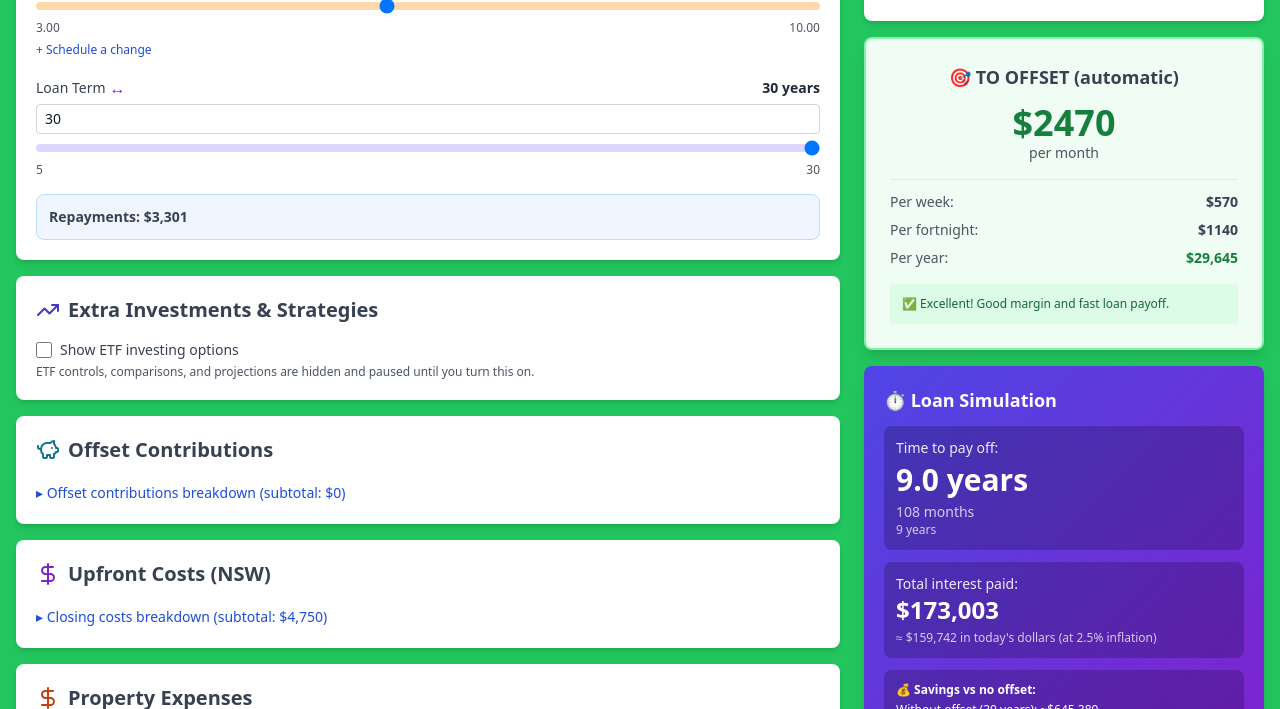
Test: Invest in ETFs / Strategy Comparison › hides ETF controls by default and restores the child settings when re-enabled
The width and height of the screenshot is (1280, 709).
(page scrolled)
Expected: the checkbox labelled "Invest in ETFs" is not shown
Click the checkbox labelled "Show ETF investing options".
click(44, 350)  # box [36,342,52,358]
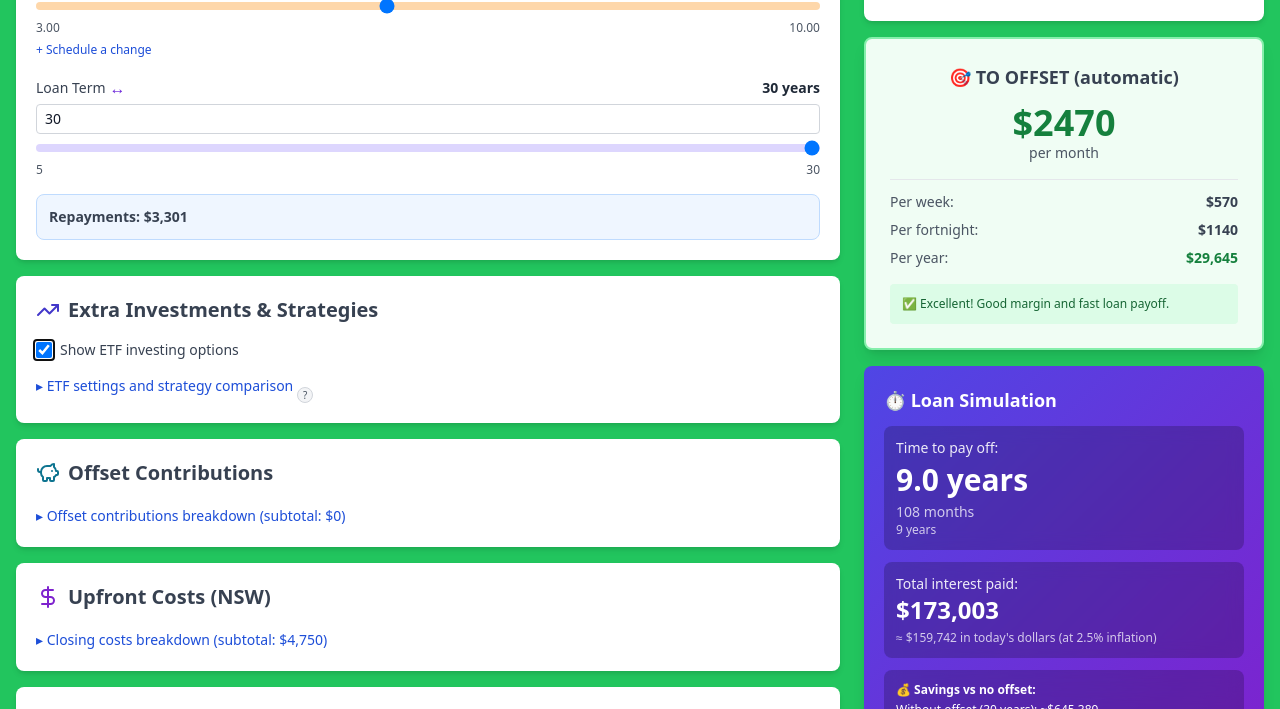
Click the button "▸ ETF settings and strategy comparison".
click(165, 386)  # box [36,376,293,396]
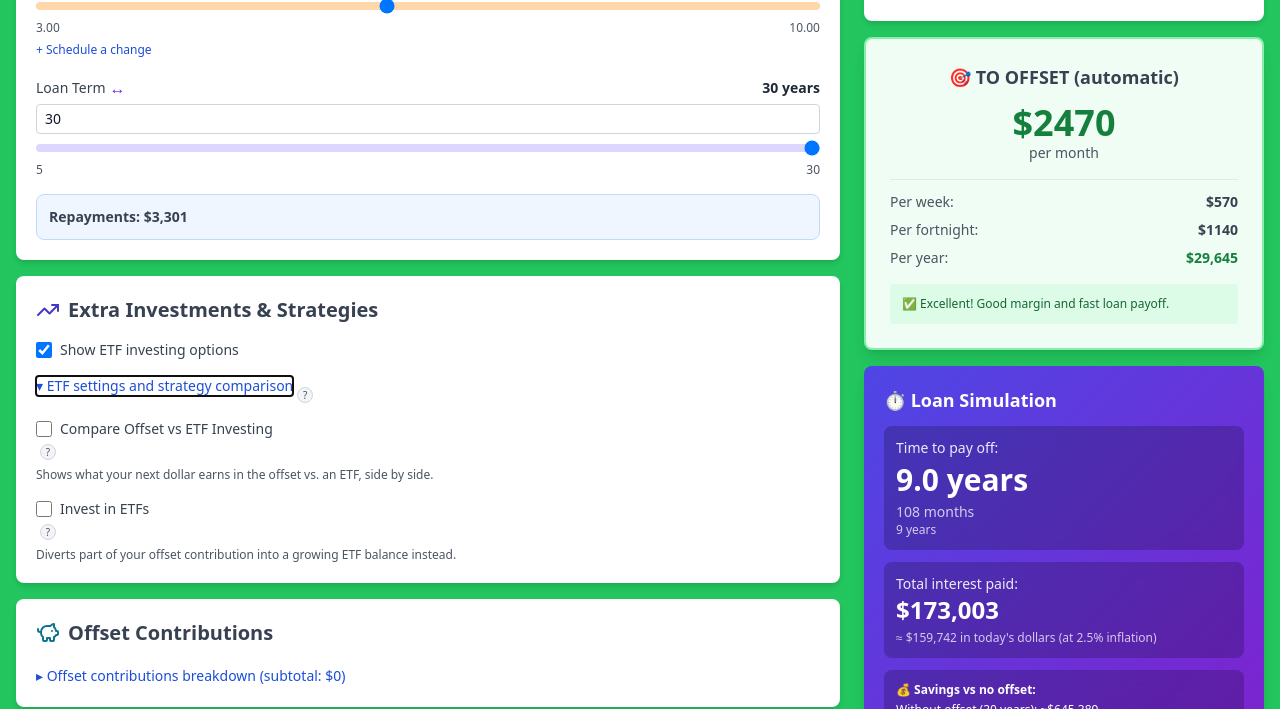
Click the checkbox labelled "Invest in ETFs".
click(44, 508)  # box [36,500,52,516]
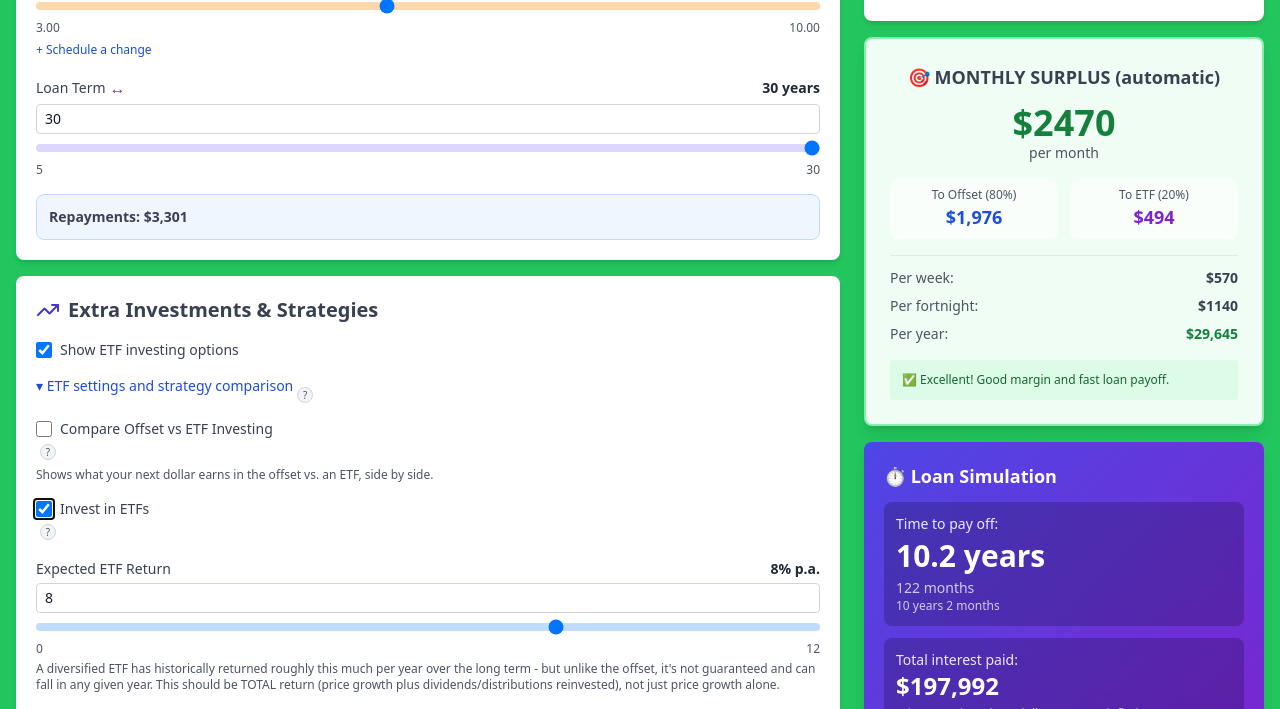
Click the checkbox labelled "Show ETF investing options".
click(44, 350)  # box [36,342,52,358]
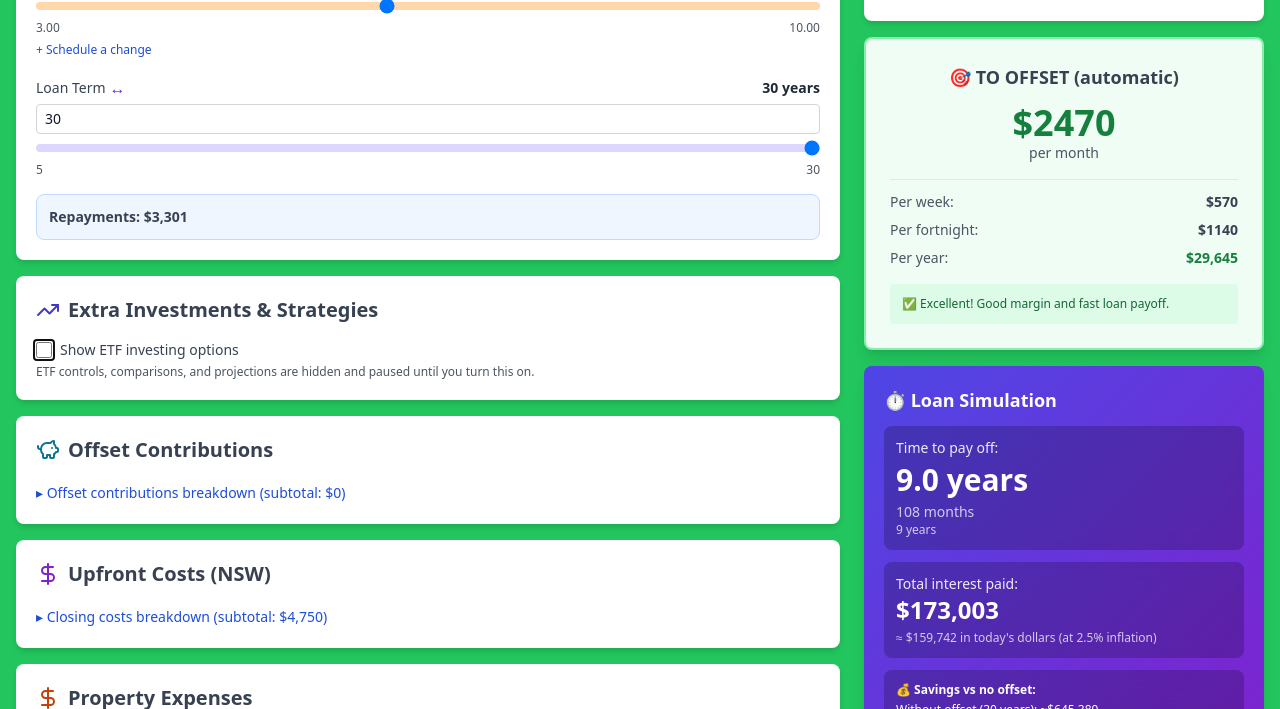
Expected: the field labelled "ETF Allocation" is not shown
Expected: the label "Invest in ETFs" is gone
Click the checkbox labelled "Show ETF investing options".
click(44, 350)  # box [36,342,52,358]
(page scrolled)
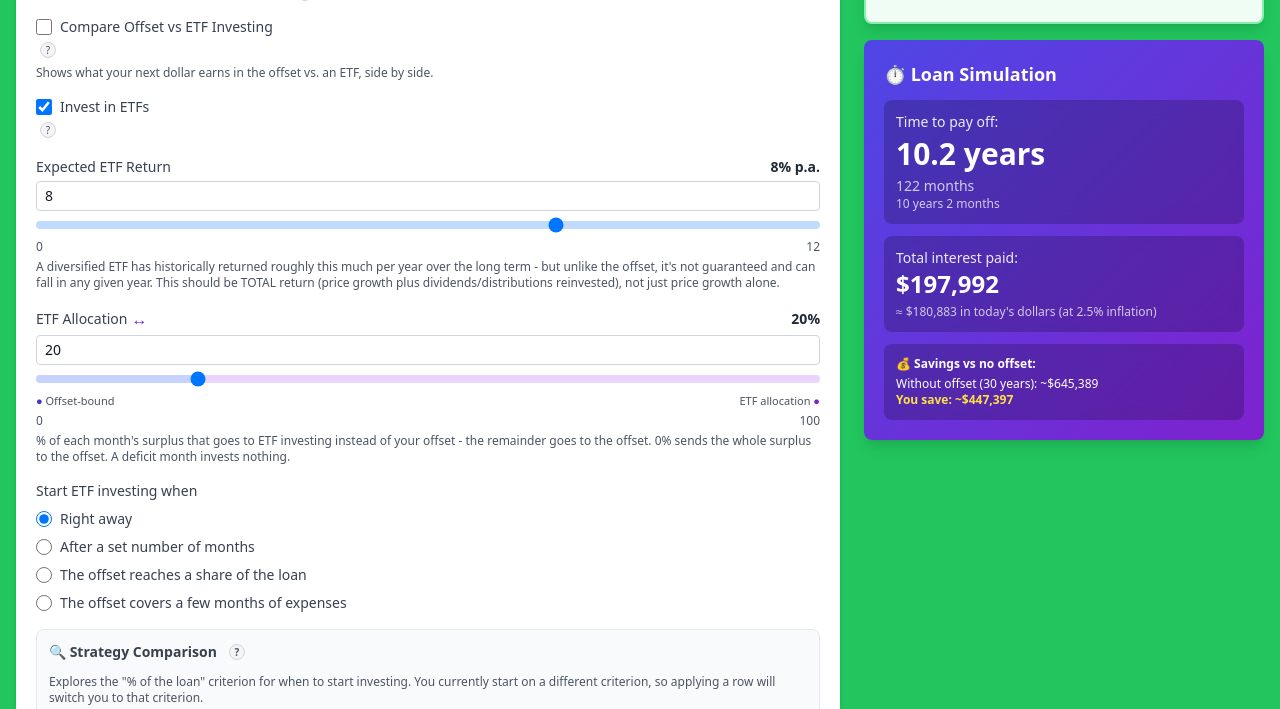
Expected: the checkbox labelled "Invest in ETFs" is checked, [36,98,52,114]
Expected: the number field labelled "ETF Allocation" is shown, [36,334,820,364]
